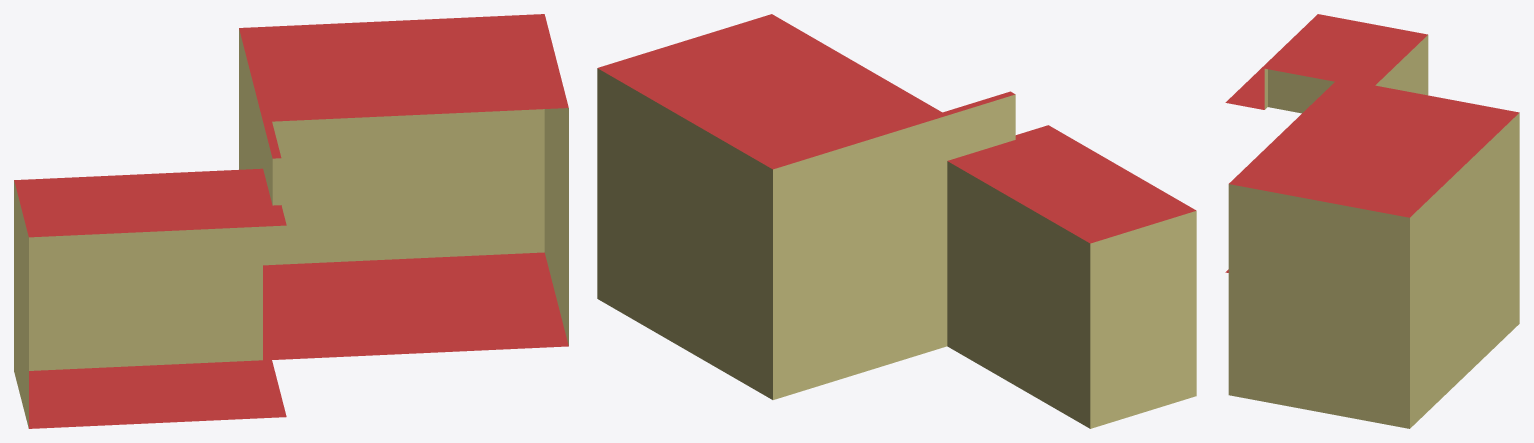
3 views of the same model, side by side, from view 1: azimuth 30°, elevation 25°; view 2: azimuth 150°, elevation 25°; view 3: azimuth 270°, elevation 25° (orthographic). The views are drawn at different scales.
Size of the model in its own units: 18.2 by 9.23 by 7.31.
